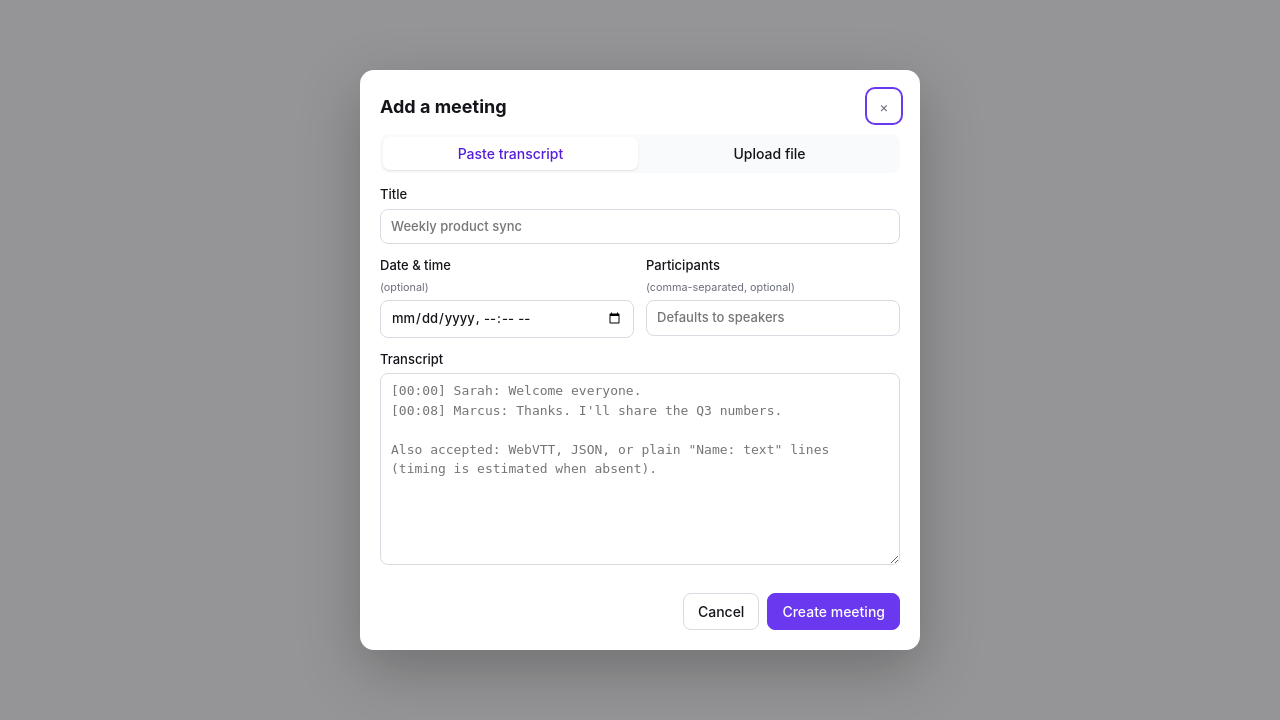
Test: create meeting modal › shows server-side parse errors and stays open
The image size is (1280, 720).
Type "Bad" into the field labelled "Title".
click(640, 227); type("Bad")  # box [380,209,900,244]
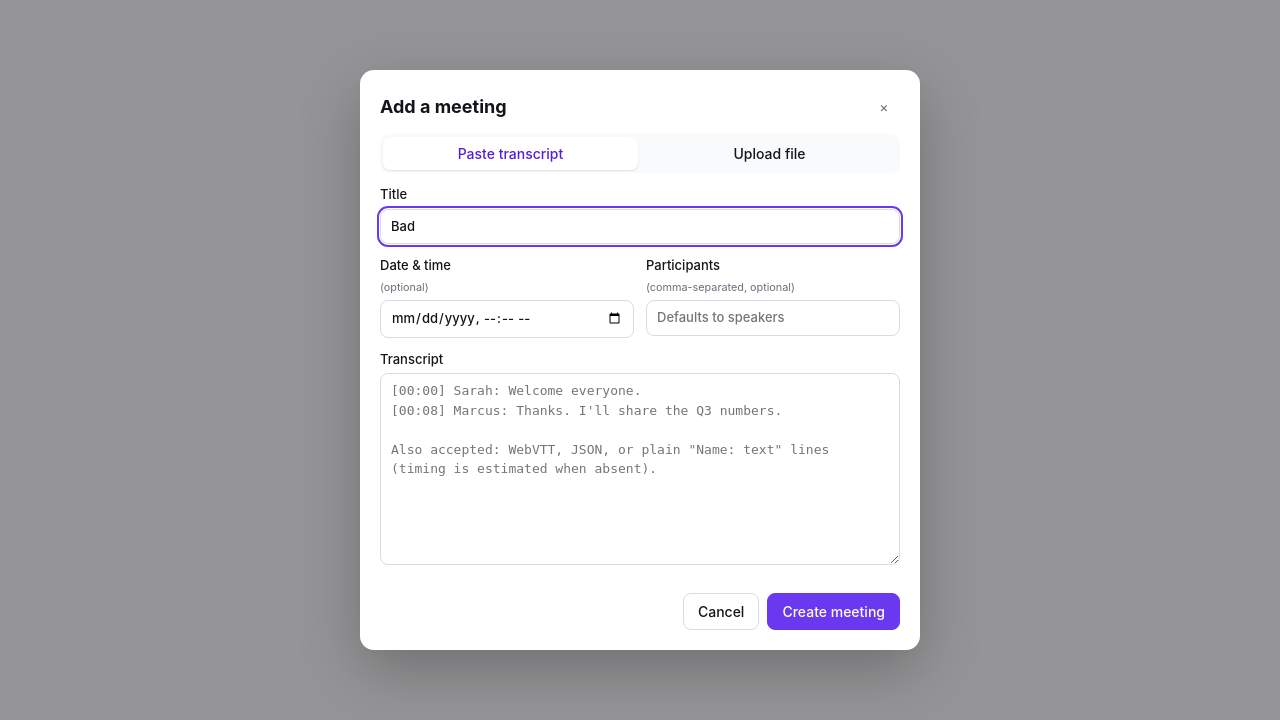
Type "hello" into the text box labelled "Transcript".
click(640, 469); type("hello")  # box [380,373,900,565]
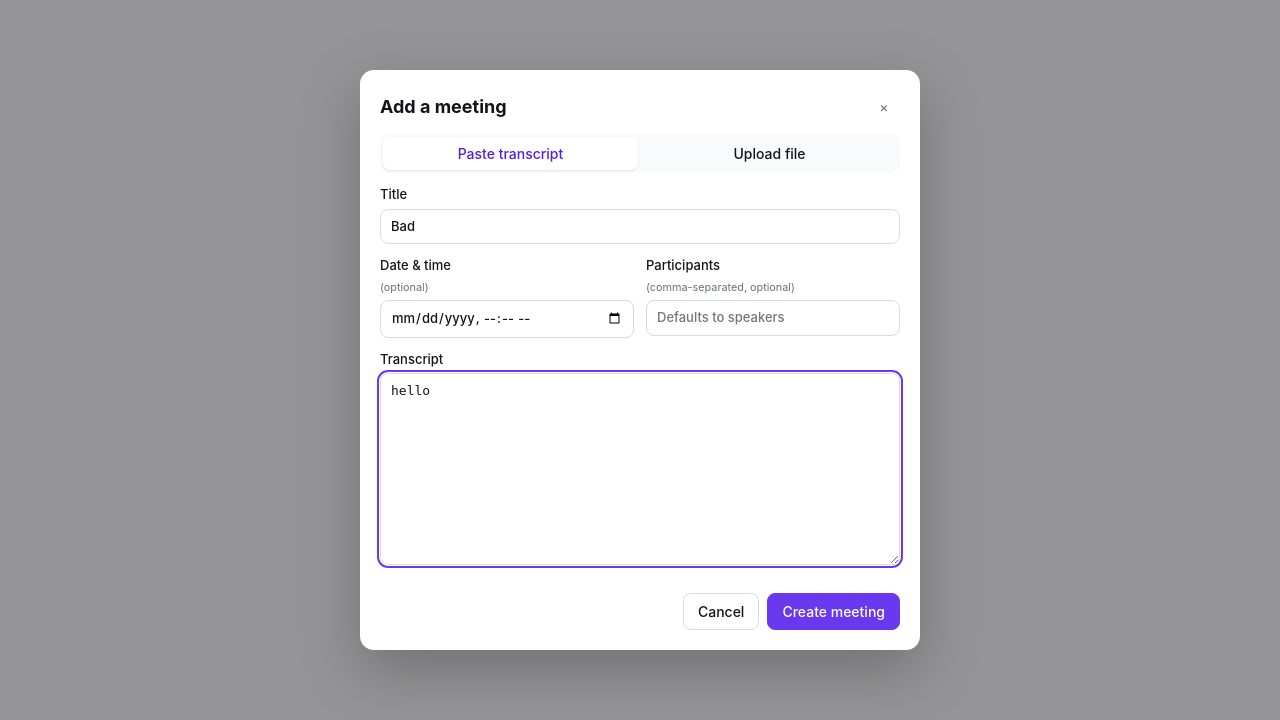
Click the button "Create meeting".
click(834, 611)  # box [767,593,900,630]
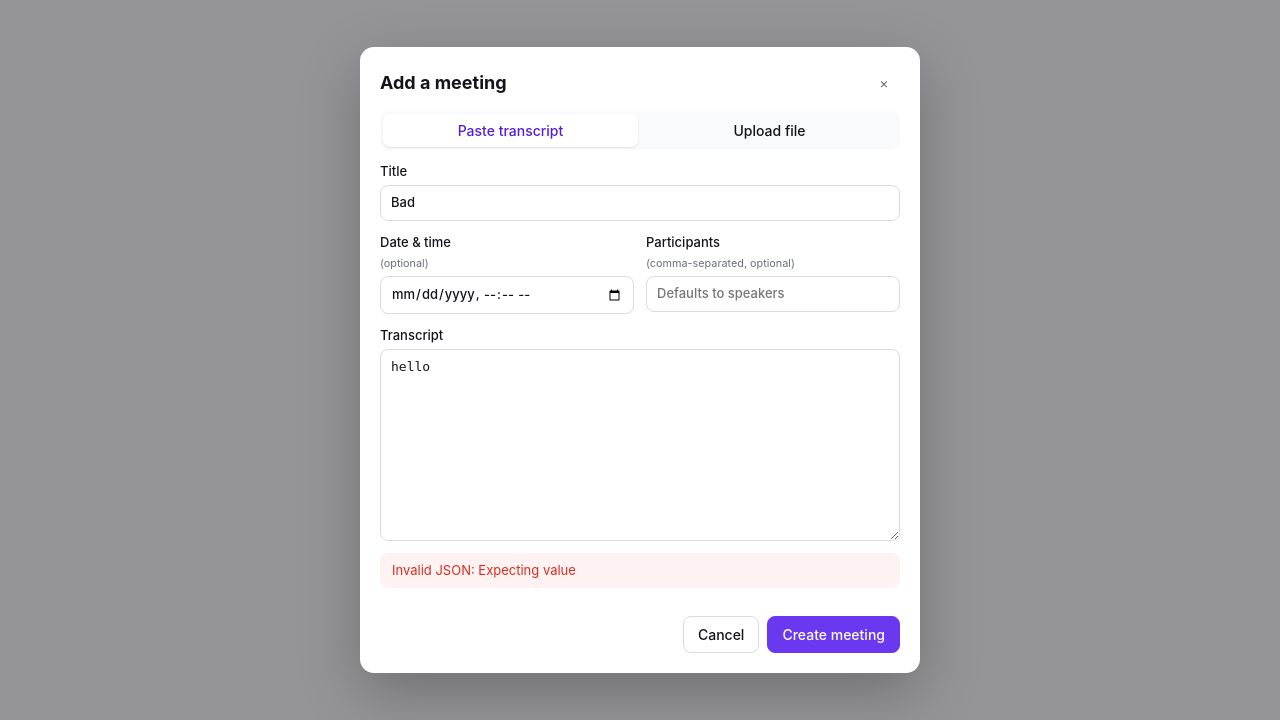
Check: the button "Create meeting" is enabled, box [767,616,900,653]
Check: the message shows "Invalid JSON", box [392,562,576,578]
